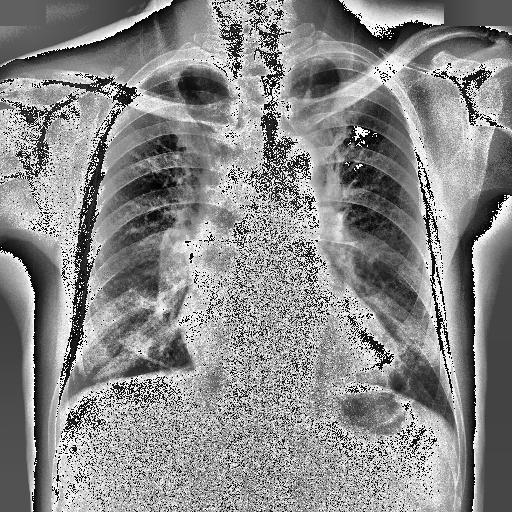0- Aortic enlargement: (273, 134, 319, 182), (274, 136, 318, 176)
3- Cardiomegaly: (174, 279, 400, 386), (180, 288, 398, 390), (175, 300, 399, 382)
